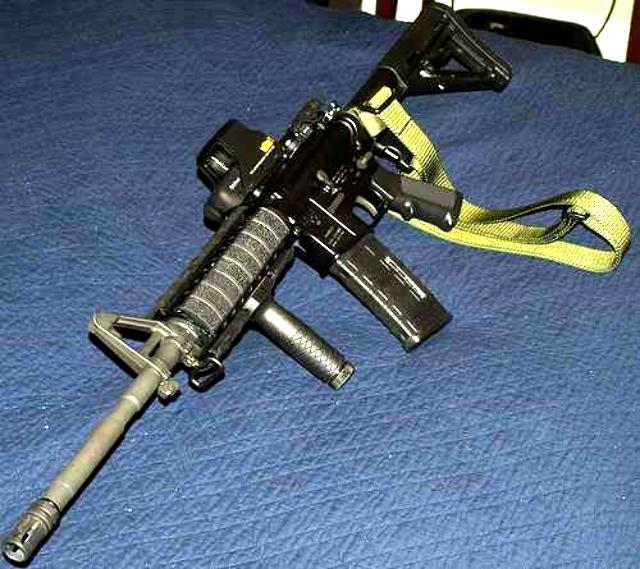rifle: (0, 0, 526, 569)
